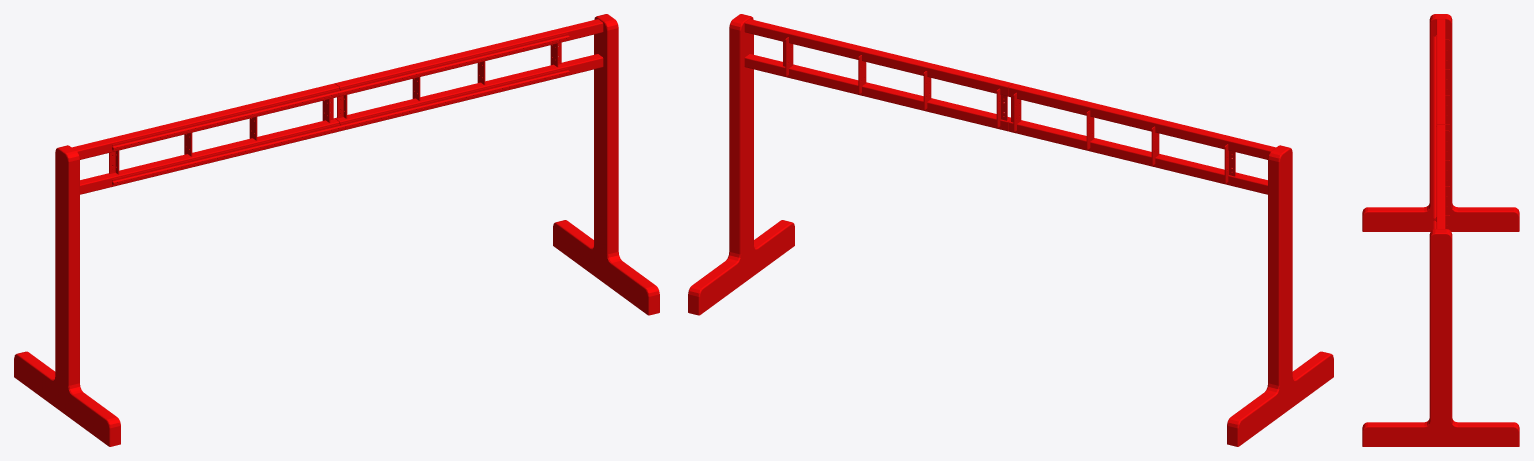
File: gantry.obj
3 renders of one model, left to right at view 1: azimuth 30°, elevation 25°; view 2: azimuth 150°, elevation 25°; view 3: azimuth 270°, elevation 25°, orthographic. The views are drawn at different scales.
Visible parts, largest first — view 1: gantry; view 2: gantry; view 3: gantry.
Boxes of the visible parts, x1,y1,x2,y2 form: gantry: [14, 14, 659, 446]; gantry: [688, 14, 1333, 446]; gantry: [1362, 14, 1519, 446].
Bounding box in the file's own units: 4.64 × 2.1 × 1.4.
